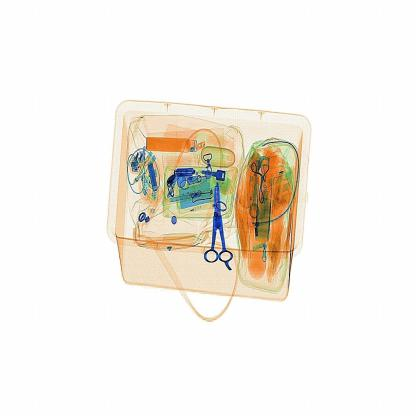gun: (196, 178, 243, 272)
